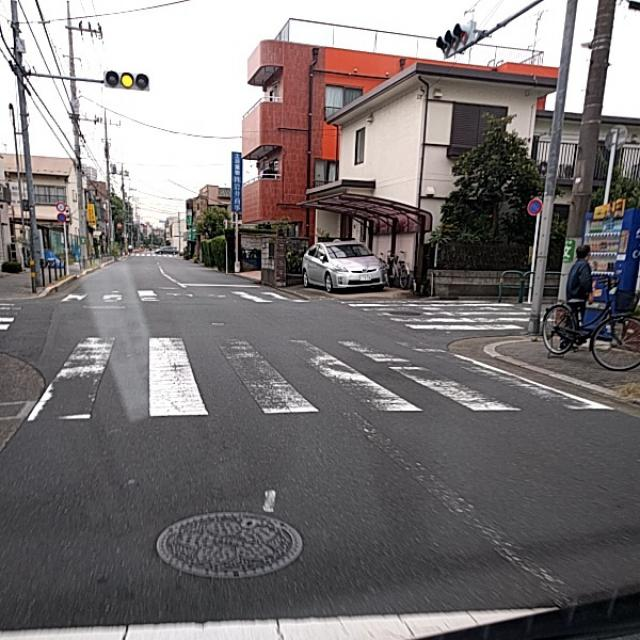pothole: (341, 419, 461, 512)
